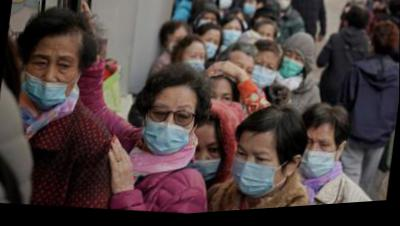OK: (142, 98, 196, 163), (228, 143, 285, 204), (299, 134, 340, 185), (249, 59, 279, 96), (181, 52, 209, 84), (278, 55, 305, 86), (201, 37, 222, 65), (221, 26, 244, 51), (197, 15, 219, 38), (242, 2, 259, 21), (277, 1, 293, 16), (218, 1, 235, 14)
WRONG: (22, 43, 82, 114), (190, 137, 225, 185)
